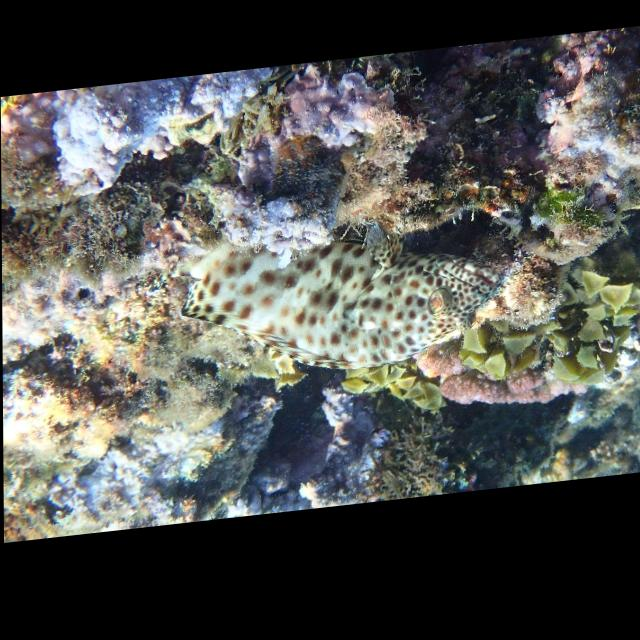Groupers: (166, 220, 498, 391)
